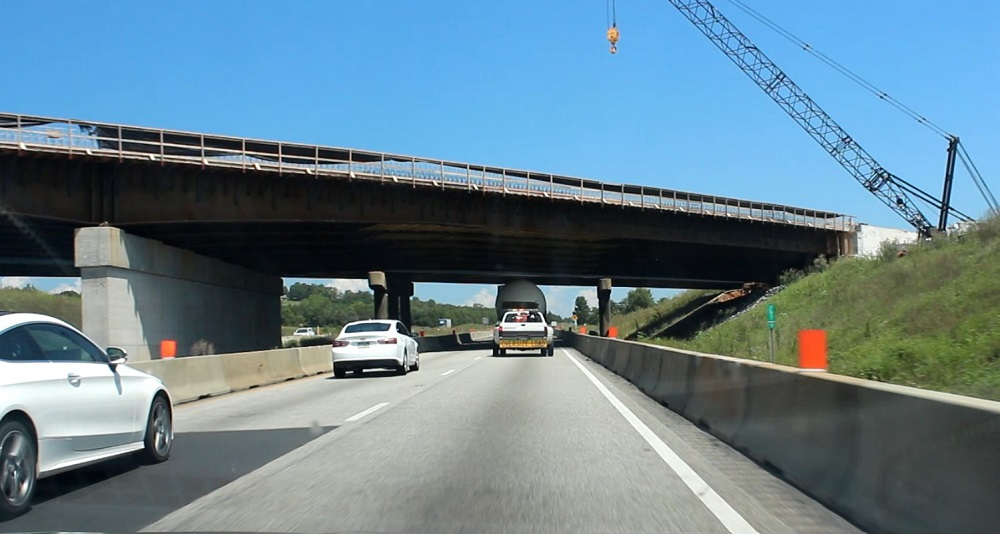bridge: (3, 110, 856, 290)
